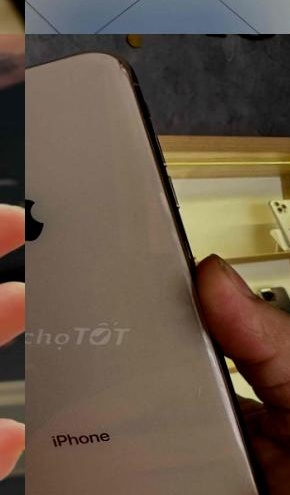physical_damage: (96, 57, 139, 81)
